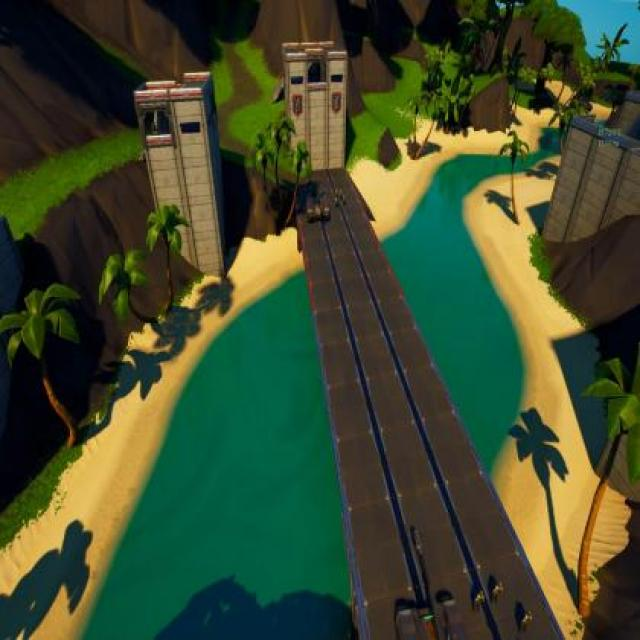tank: (393, 529, 463, 640), (304, 180, 330, 224)
